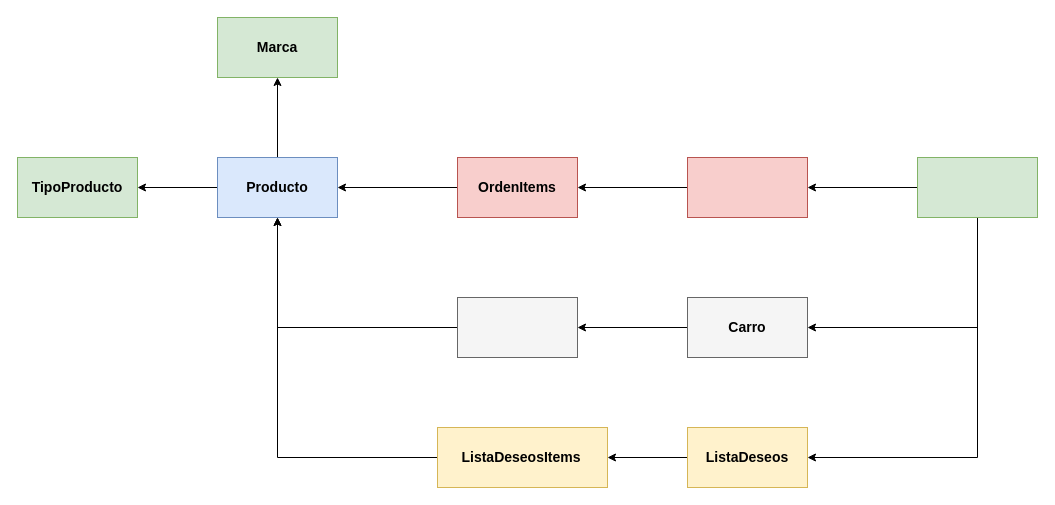
This 1055x505 diagram has some shape labels left out. The centre of each missing label's shape, as x and y in pixels:
CarroItems: the point at 517,327
Cliente: the point at 977,187
Orden: the point at 747,187
